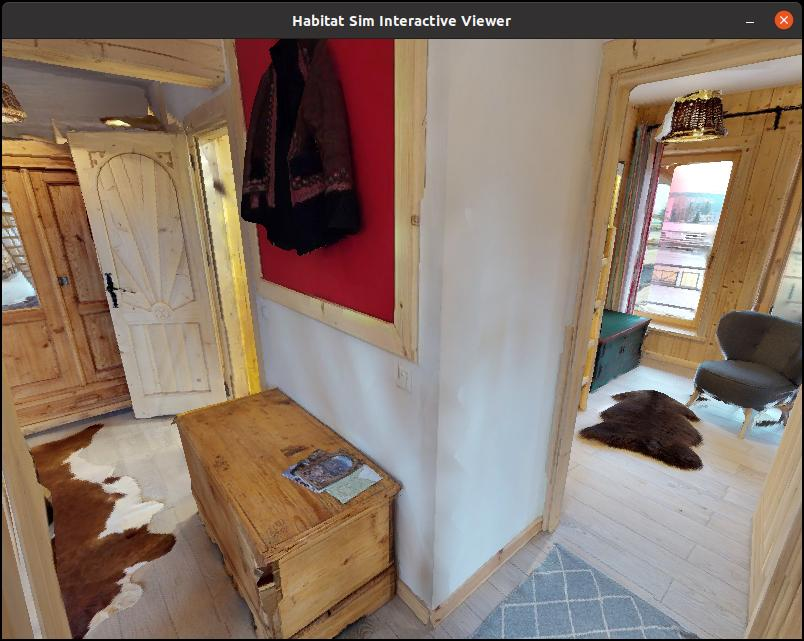chair: (691, 296, 804, 442)
door: (65, 125, 235, 425)
door-frame: (545, 55, 804, 641)
table: (163, 379, 401, 637)
